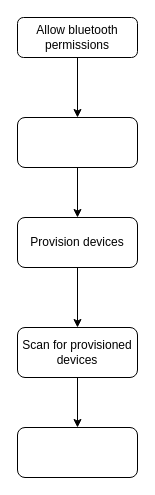
This 155x495 diagram has some shape labels left out. Here are the shapes that lost their labels. From the top down, the centre of each, then its label:
(x=77, y=142): Scan for unprovisioned devices
(x=77, y=452): Connected to provisioned devices
